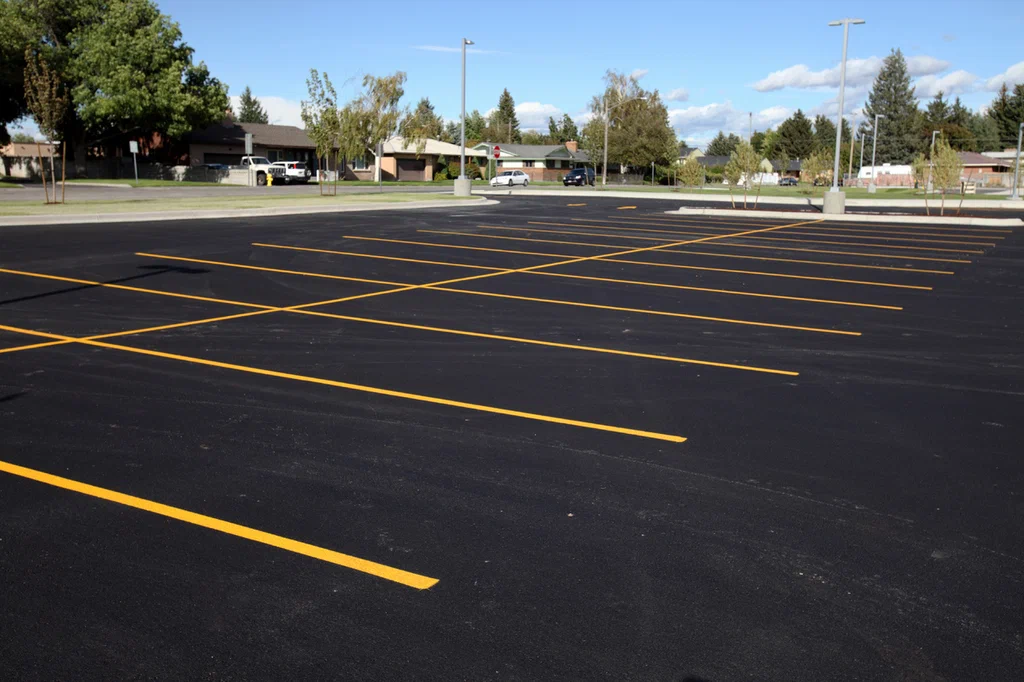Car: (240, 156, 286, 186), (272, 161, 312, 183), (490, 169, 530, 187), (563, 168, 595, 187), (196, 164, 230, 170), (779, 177, 799, 186)
